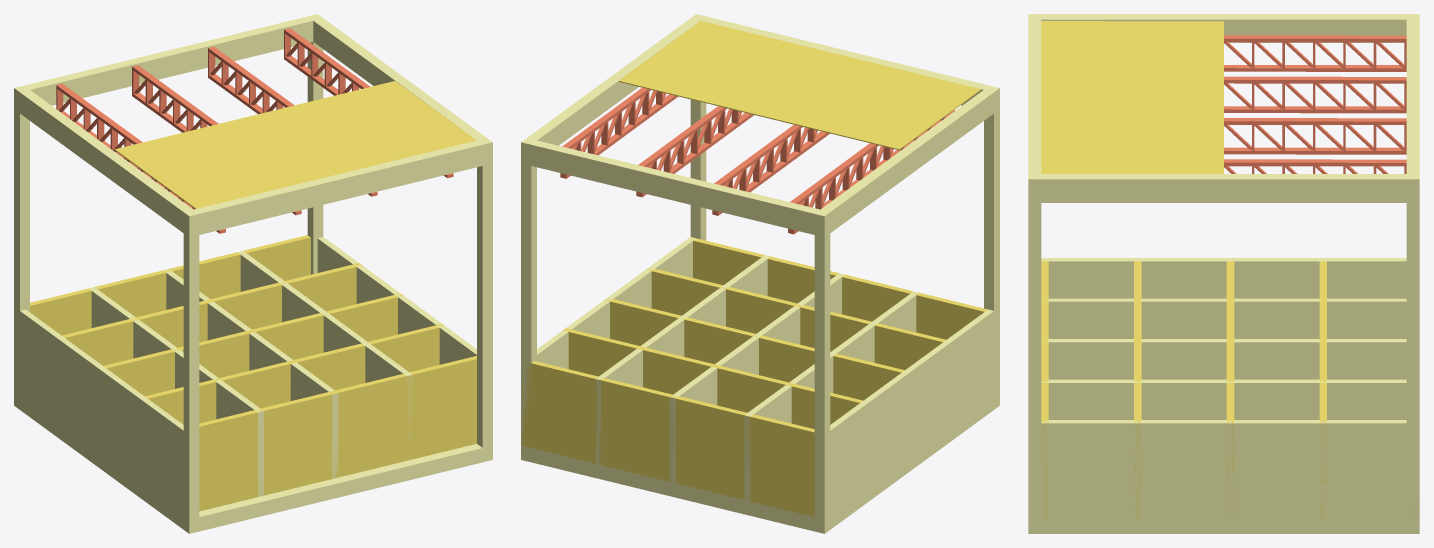
3 views of the same model, side by side, from view 1: azimuth 30°, elevation 25°; view 2: azimuth 150°, elevation 25°; view 3: azimuth 270°, elevation 25° (orthographic). The views are drawn at different scales.
Parts seen in each view (by area): view 1: 物件_10, 物件_71, 物件_5, 物件_132, 物件_8, 物件_139, 物件_6, 物件_9, 物件_7, 物件_138, 物件_137, 物件_135 (+12 smaller); view 2: 物件_6, 物件_71, 物件_5, 物件_8, 物件_10, 物件_138, 物件_7, 物件_9, 物件_132, 物件_137, 物件_136, 物件_2 (+12 smaller); view 3: 物件_1, 物件_71, 物件_5, 物件_2, 物件_4, 物件_3, 物件_140, 物件_132, 物件_137, 物件_133, 物件_134, 物件_138 (+12 smaller).
Boxes of the visible parts, <box> form: 物件_10: <box>199,356,476,511</box>; 物件_71: <box>114,81,476,208</box>; 物件_5: <box>14,307,183,514</box>; 物件_132: <box>14,391,492,533</box>; 物件_8: <box>103,293,403,396</box>; 物件_139: <box>184,138,492,236</box>; 物件_6: <box>30,235,310,335</box>; 物件_9: <box>145,324,443,424</box>; 物件_7: <box>62,263,361,365</box>; 物件_138: <box>14,14,319,113</box>; 物件_137: <box>14,86,198,235</box>; 物件_135: <box>183,209,199,519</box>; 物件_6: <box>521,361,816,516</box>; 物件_71: <box>619,21,980,150</box>; 物件_5: <box>818,309,993,519</box>; 物件_8: <box>604,299,904,400</box>; 物件_10: <box>690,237,987,339</box>; 物件_138: <box>521,138,828,234</box>; 物件_7: <box>563,328,862,428</box>; 物件_9: <box>646,269,945,369</box>; 物件_132: <box>521,391,999,533</box>; 物件_137: <box>815,86,999,235</box>; 物件_136: <box>814,210,830,518</box>; 物件_2: <box>595,255,770,464</box>; 物件_1: <box>1041,420,1419,517</box>; 物件_71: <box>1041,21,1223,173</box>; 物件_5: <box>1041,258,1406,298</box>; 物件_2: <box>1041,379,1406,419</box>; 物件_4: <box>1041,298,1406,338</box>; 物件_3: <box>1048,339,1406,379</box>; 物件_140: <box>1028,174,1419,202</box>; 物件_132: <box>1028,518,1419,533</box>; 物件_137: <box>1029,14,1419,42</box>; 物件_133: <box>1028,174,1041,517</box>; 物件_134: <box>1406,174,1419,517</box>; 物件_138: <box>1406,15,1419,202</box>.
Size of the model in its own units: 48 by 48 by 48.
